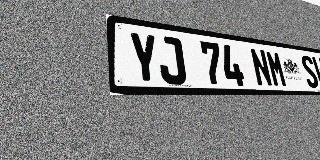4: (219, 44, 245, 86)
7: (198, 41, 226, 86)
J: (156, 35, 187, 85)
M: (265, 50, 288, 87)
N: (249, 48, 273, 87)
S: (299, 55, 320, 88)
W: (311, 56, 320, 88)
Y: (128, 31, 161, 84)
